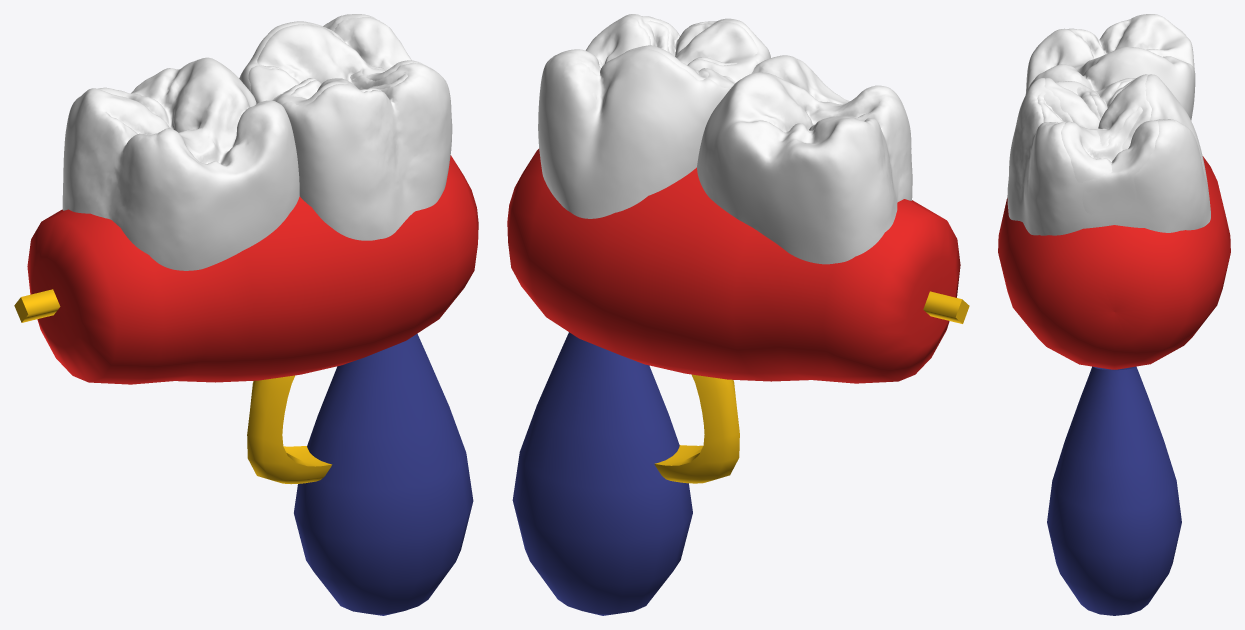
File: pistola d'acqua.fbx
The picture shows the model from 3 angles, left to right: view 1: azimuth 30°, elevation 25°; view 2: azimuth 150°, elevation 25°; view 3: azimuth 270°, elevation 25°; orthographic projection. The views are drawn at different scales.
Parts seen in each view (by area): view 1: Oggetto_4, Oggetto_8, Oggetto_6, Oggetto_7, Oggetto_1, Oggetto_5; view 2: Oggetto_4, Oggetto_6, Oggetto_8, Oggetto_7, Oggetto_1, Oggetto_5; view 3: Oggetto_7, Oggetto_4, Oggetto_6, Oggetto_8.
Boxes of the visible parts, left/top/right/bottom form: Oggetto_4: left=27, top=155, right=478, bottom=384; Oggetto_8: left=62, top=57, right=299, bottom=270; Oggetto_6: left=294, top=333, right=473, bottom=615; Oggetto_7: left=239, top=14, right=452, bottom=240; Oggetto_1: left=247, top=375, right=332, bottom=484; Oggetto_5: left=14, top=289, right=60, bottom=322; Oggetto_4: left=507, top=148, right=960, bottom=383; Oggetto_6: left=512, top=332, right=692, bottom=615; Oggetto_8: left=697, top=55, right=912, bottom=264; Oggetto_7: left=538, top=14, right=770, bottom=218; Oggetto_1: left=654, top=374, right=739, bottom=483; Oggetto_5: left=923, top=291, right=969, bottom=323; Oggetto_7: left=1007, top=74, right=1210, bottom=235; Oggetto_4: left=998, top=156, right=1230, bottom=369; Oggetto_6: left=1047, top=366, right=1181, bottom=615; Oggetto_8: left=1025, top=14, right=1195, bottom=120.
Size of the model in its own units: 9.3 by 4.98 by 11.97.
